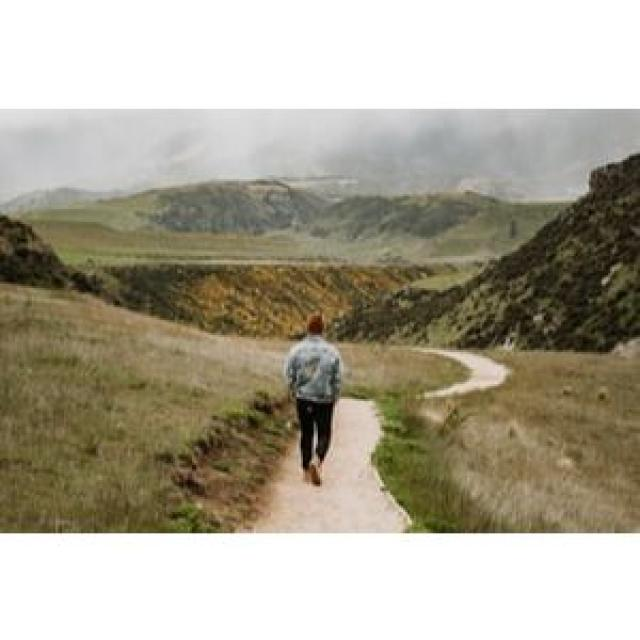nonfall: (272, 310, 365, 490)
